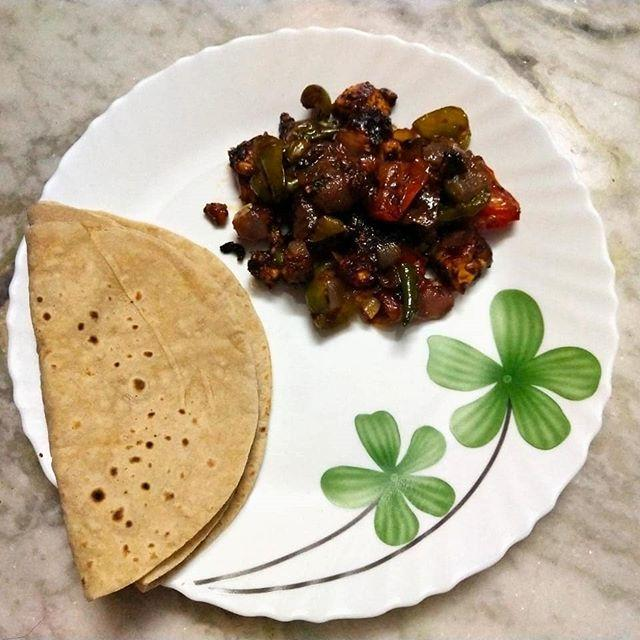Roti: (16, 204, 264, 600)
